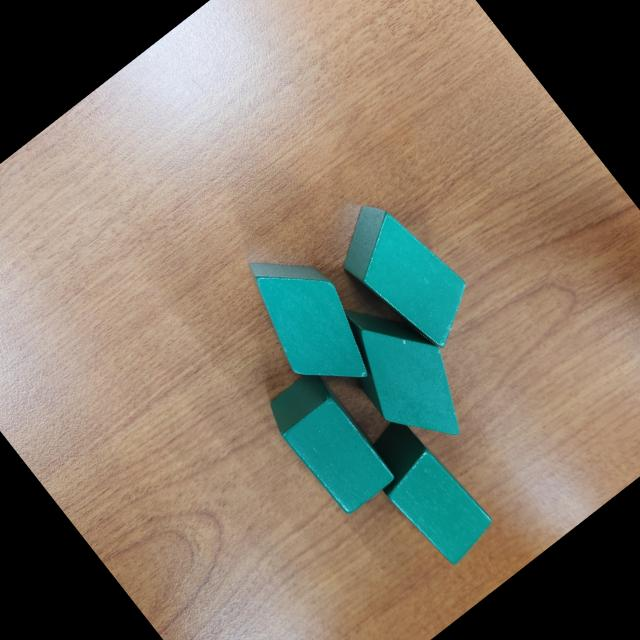green: (316, 278, 490, 466), (223, 230, 391, 411), (320, 184, 488, 364), (352, 408, 501, 572), (258, 366, 402, 521)
